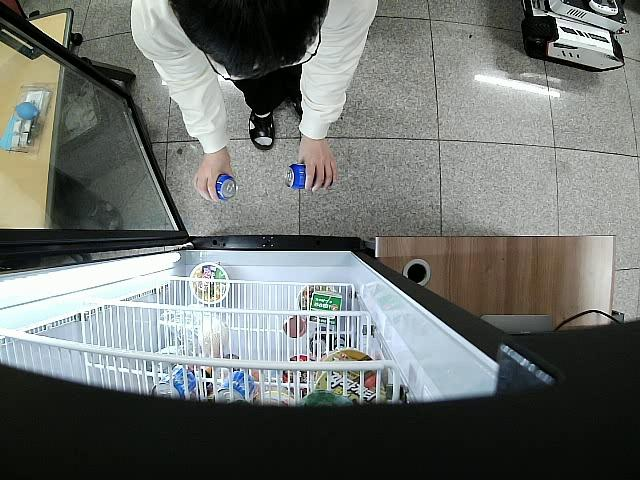00_hand: (298, 137, 338, 192), (191, 152, 233, 203)
13_pocariSweat: (286, 163, 334, 189), (216, 174, 236, 201)
